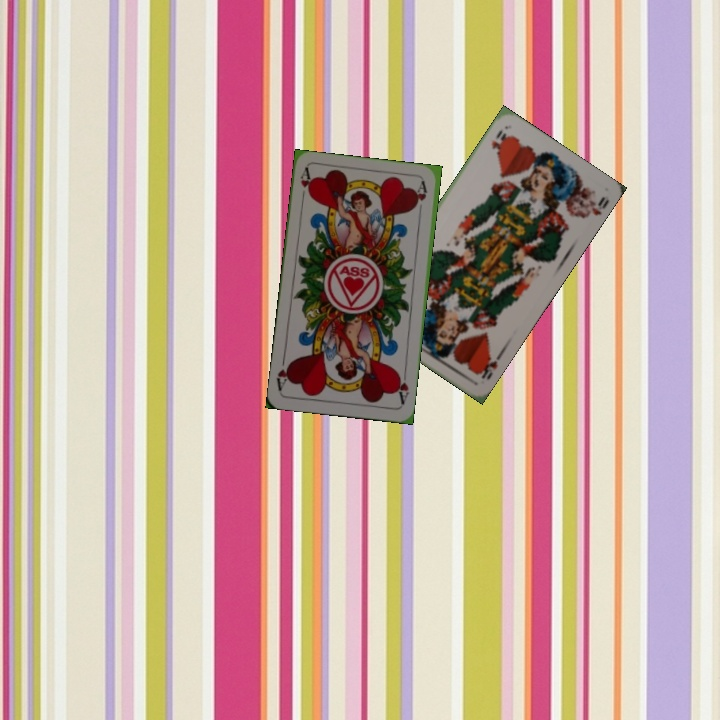HA: (392, 366, 411, 407), (297, 165, 314, 206)
HO: (473, 351, 500, 383), (487, 126, 511, 157)
